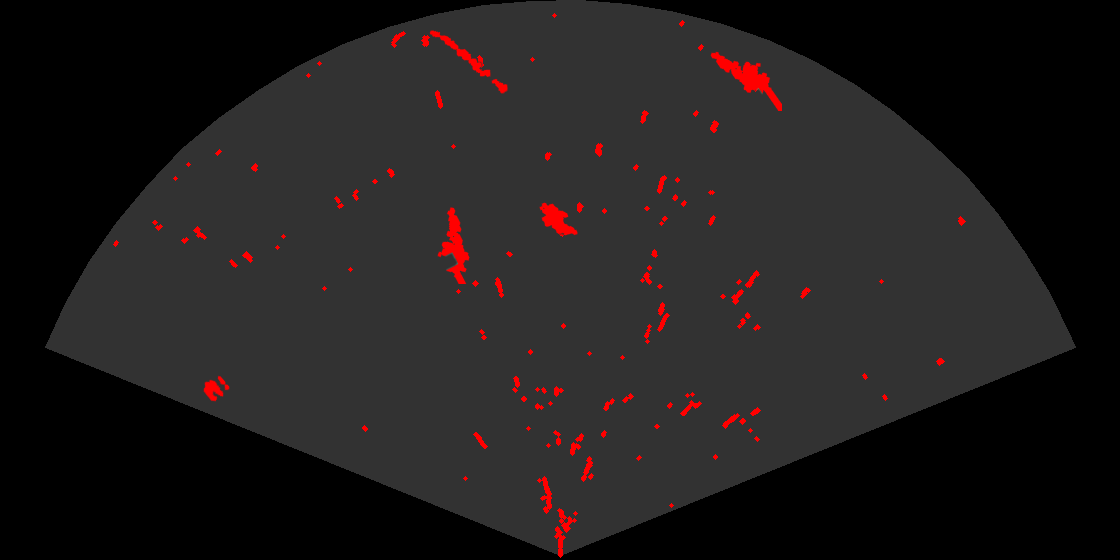AUV: (538, 201, 579, 237)
ball: (202, 374, 231, 403)
chain: (428, 29, 509, 95)
frogman: (709, 50, 782, 111), (436, 206, 471, 284)
